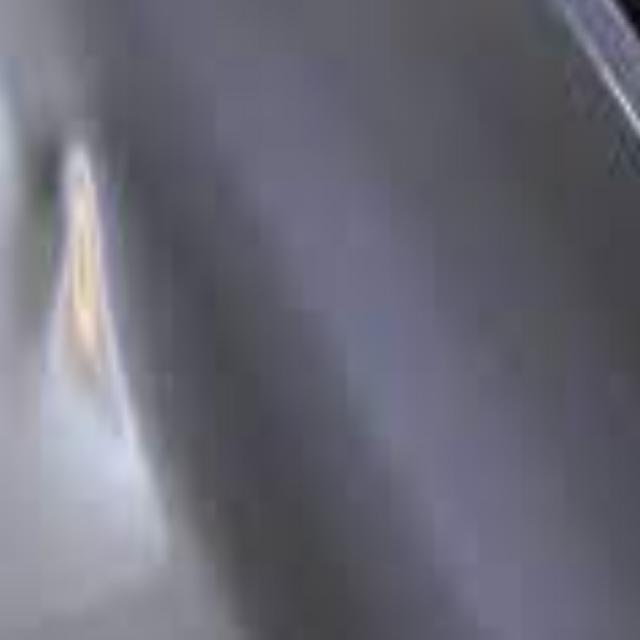dents: (7, 112, 150, 437)
